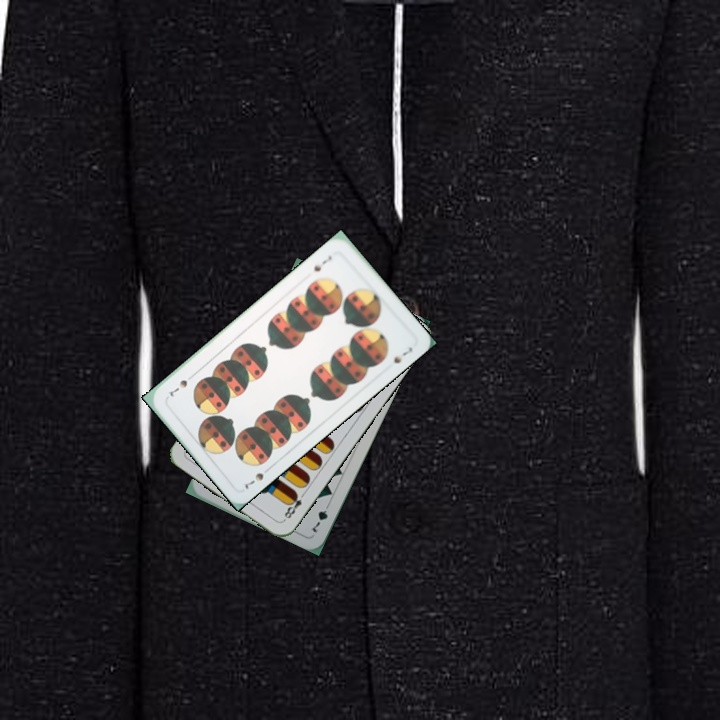E8: (279, 488, 308, 523)
G7: (308, 498, 333, 535)
S7: (241, 468, 266, 492), (310, 252, 334, 274)
